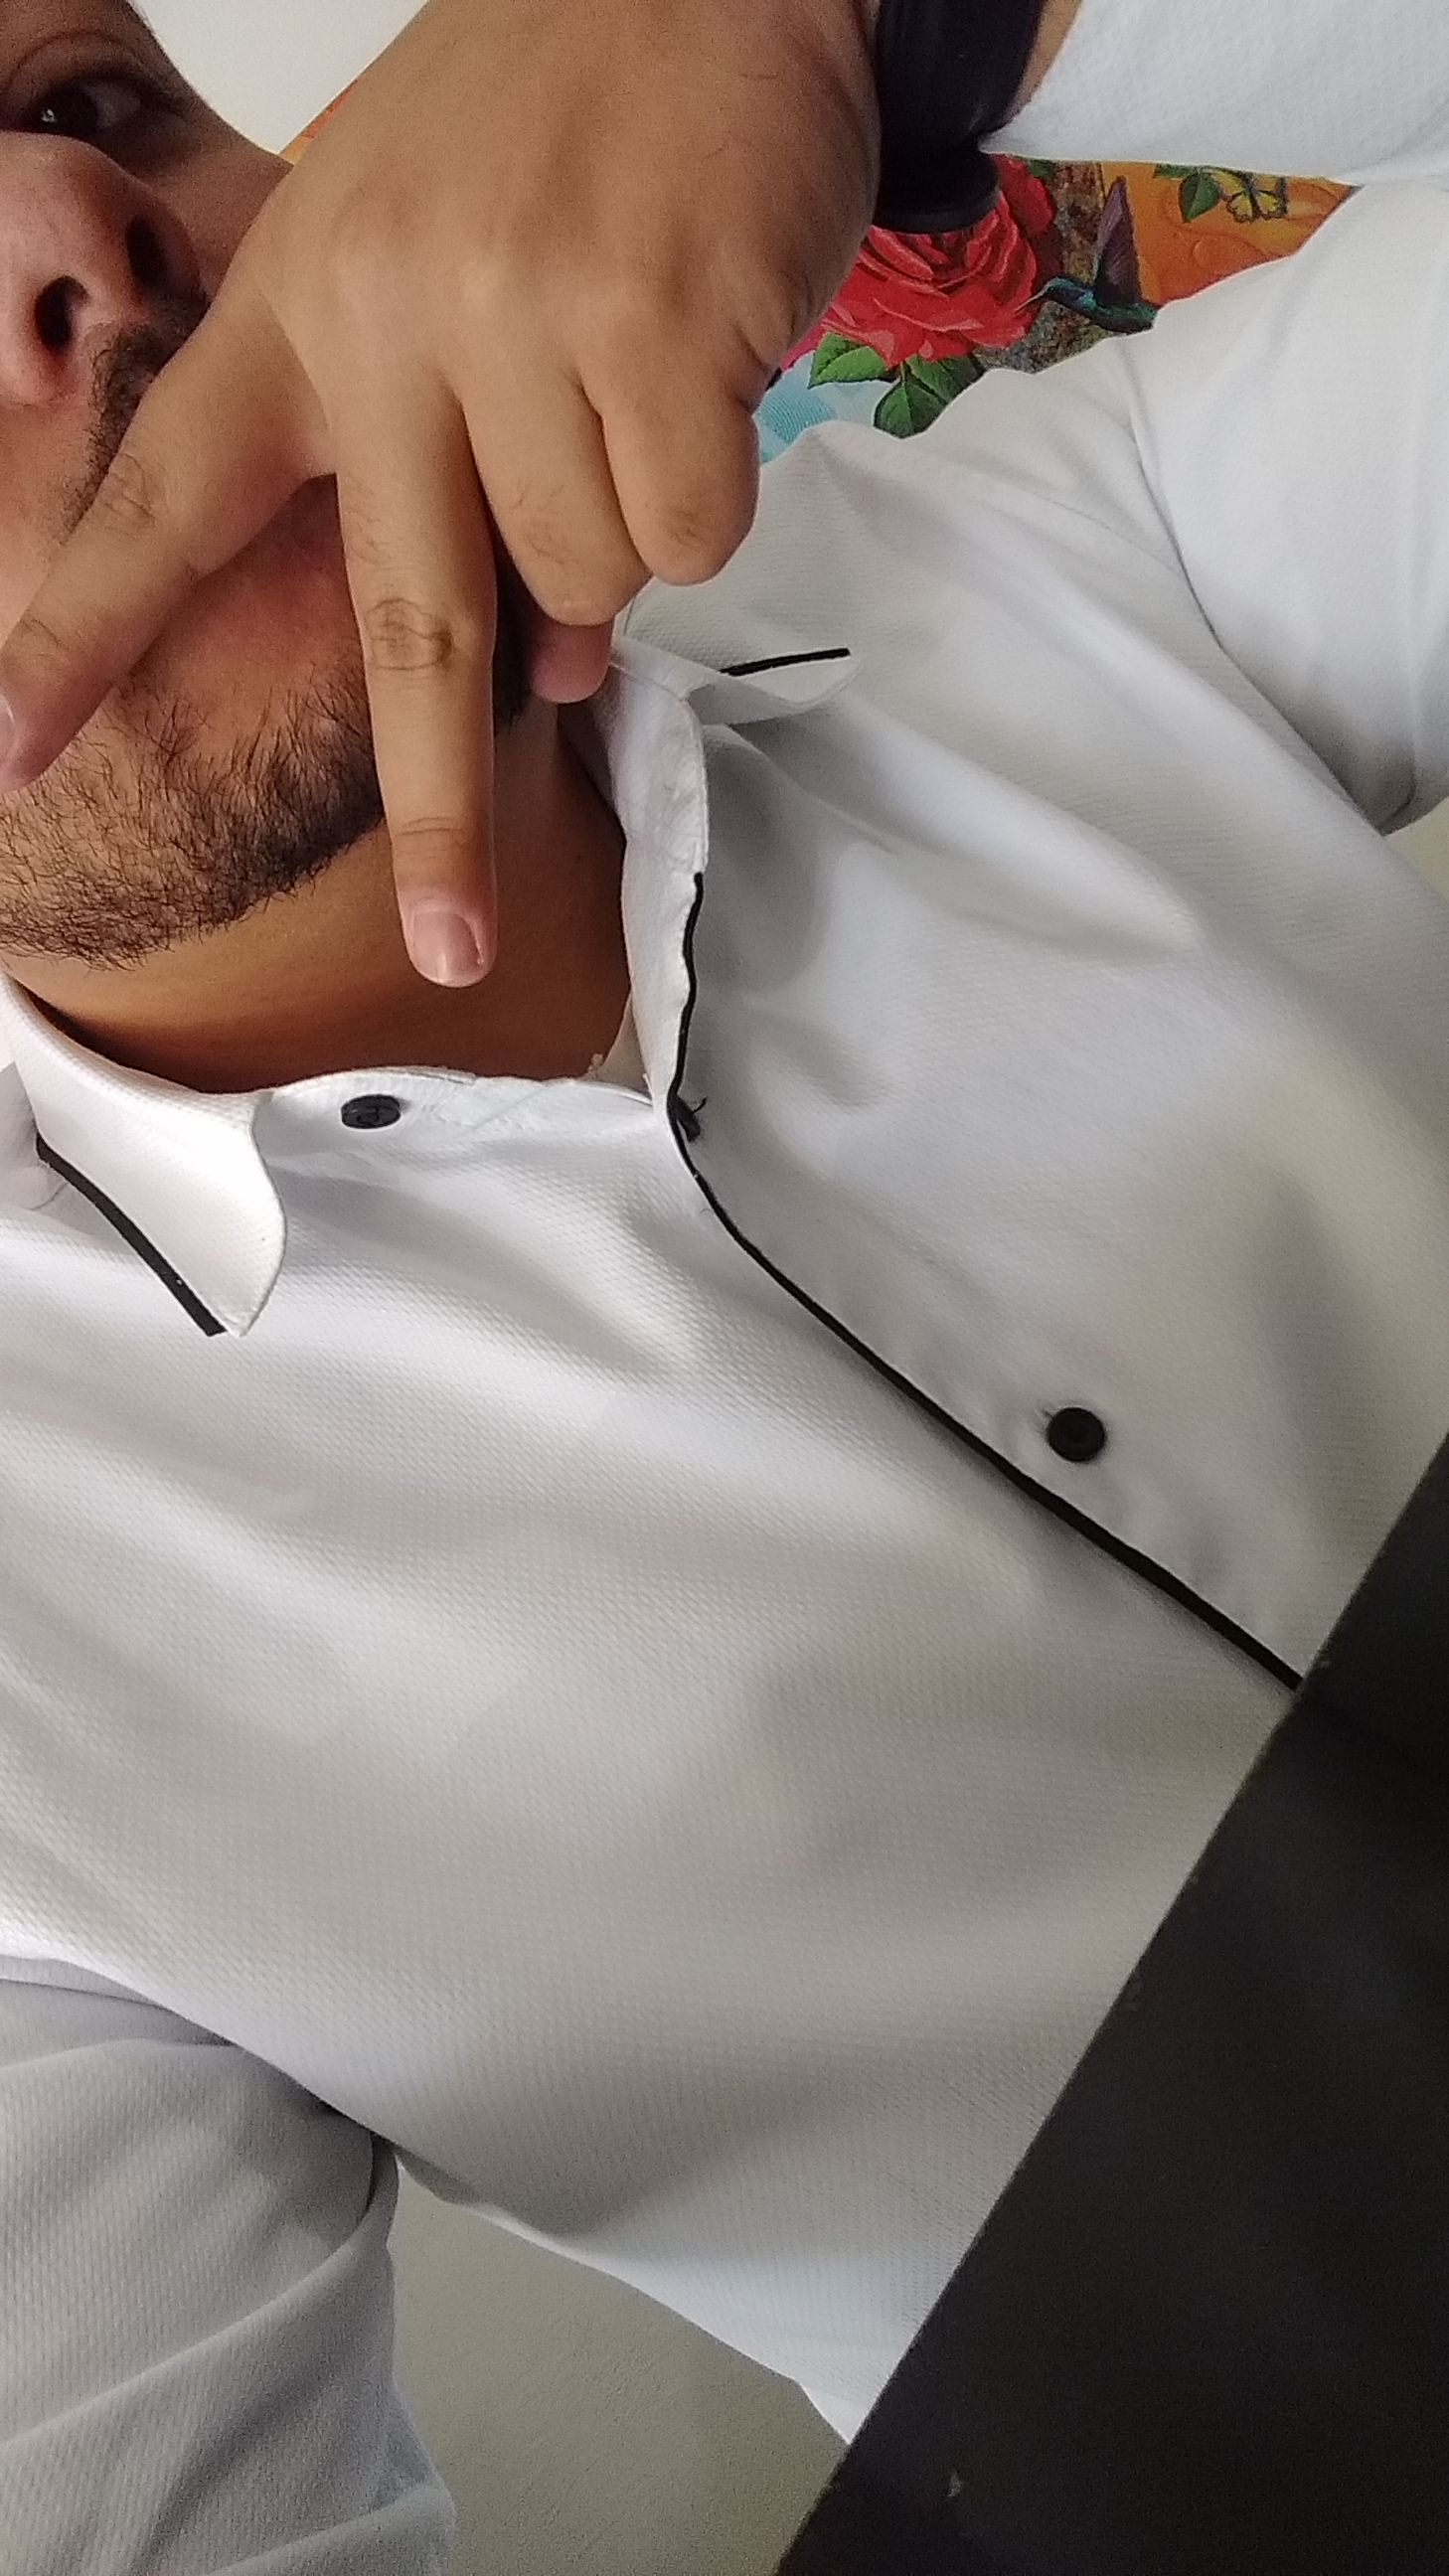Yoshi: (19, 34, 1037, 1465)
